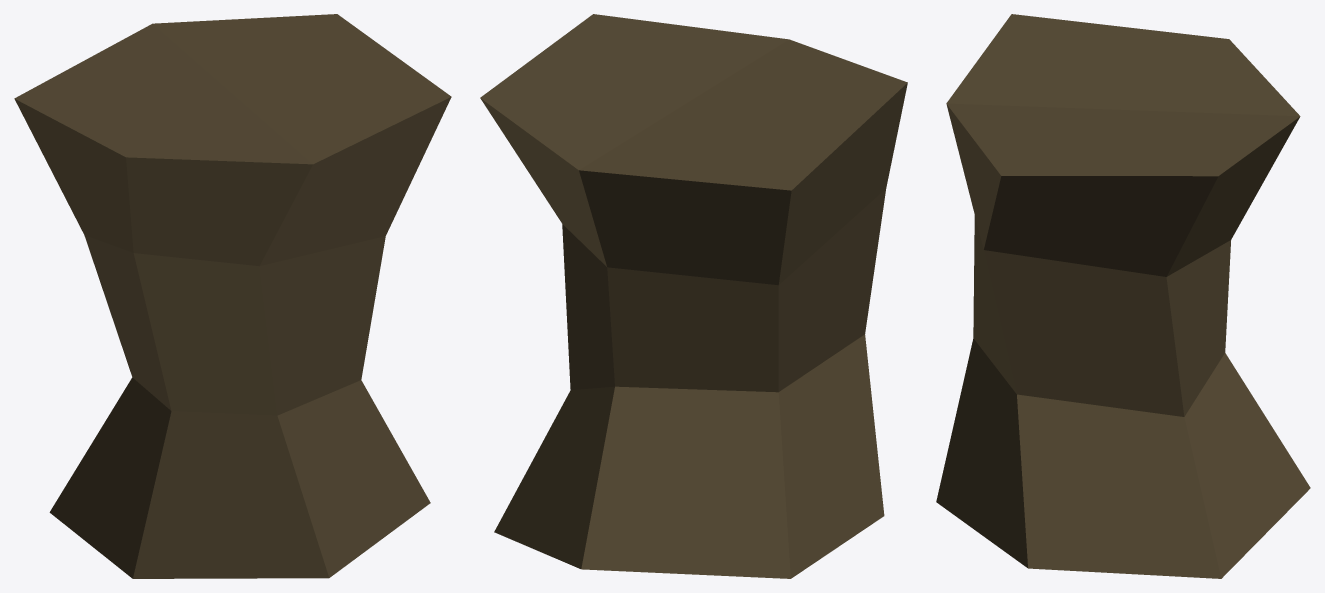
File: SmallPillar.1.fbx
3 views of the same model, side by side, from view 1: azimuth 30°, elevation 25°; view 2: azimuth 150°, elevation 25°; view 3: azimuth 270°, elevation 25° (orthographic). The views are drawn at different scales.
Parts seen in each view (by area): view 1: Small_Pillar.1; view 2: Small_Pillar.1; view 3: Small_Pillar.1.
Part boxes in pixels (left/top/right/bottom): Small_Pillar.1: left=14, top=14, right=451, bottom=578; Small_Pillar.1: left=480, top=14, right=907, bottom=578; Small_Pillar.1: left=936, top=14, right=1310, bottom=578.
Bounding box in the file's own units: 391 × 517 × 415.
